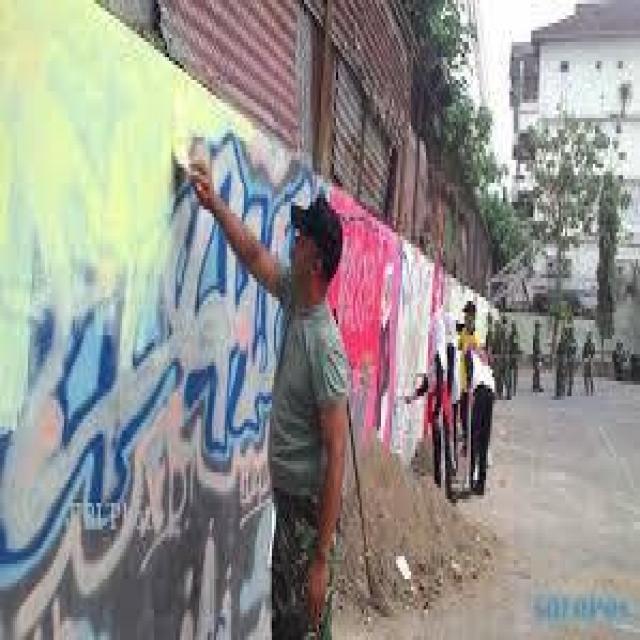nonspitting: (0, 133, 313, 569)
